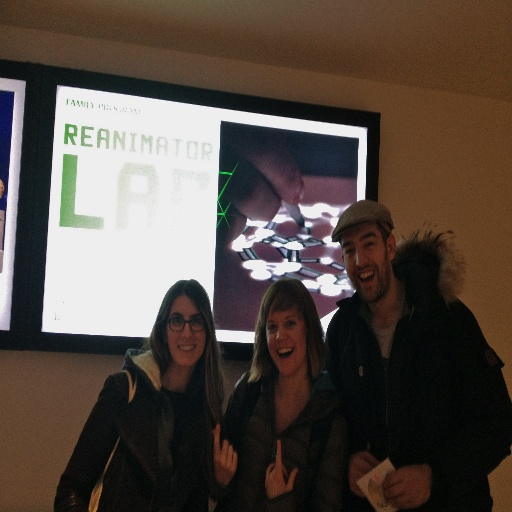hand: (382, 465, 432, 511), (264, 440, 300, 501), (203, 429, 237, 492), (348, 450, 380, 498)
